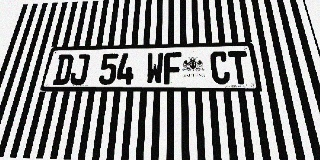4: (116, 53, 135, 85)
5: (98, 53, 119, 85)
C: (210, 51, 231, 84)
D: (52, 54, 74, 85)
F: (164, 52, 182, 84)
J: (69, 54, 90, 85)
T: (228, 51, 251, 84)
W: (145, 52, 164, 84)
